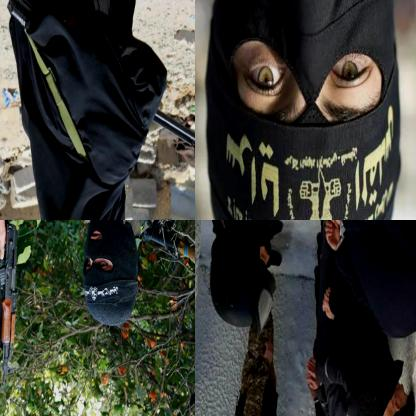rifle: (0, 0, 194, 161), (0, 223, 24, 388)
